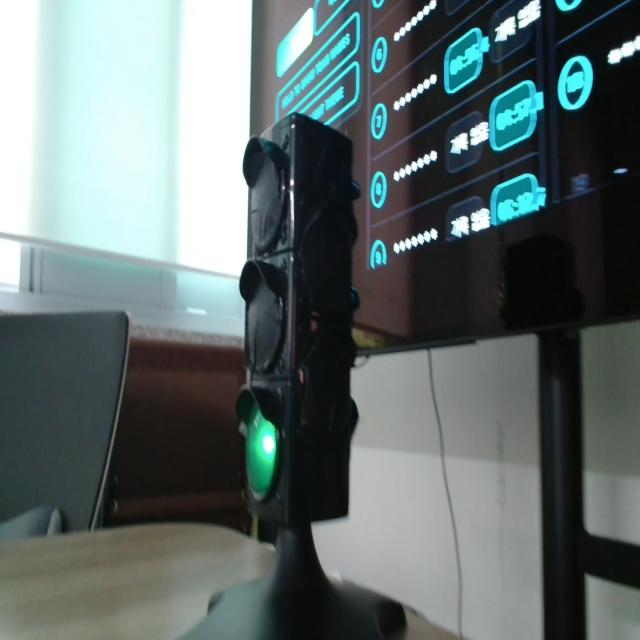green_light: (247, 403, 277, 498)
